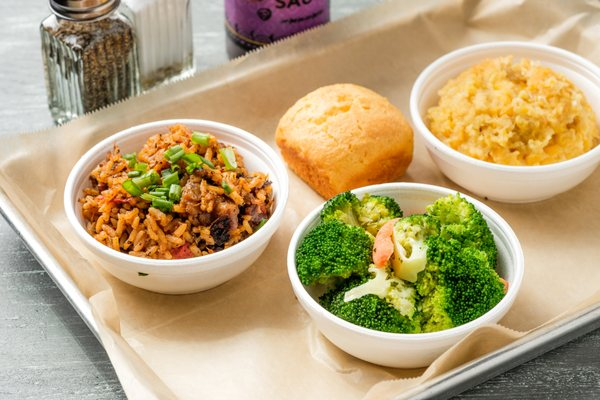curry: (329, 193, 507, 334)
sushi: (287, 179, 526, 368), (63, 118, 290, 295), (409, 41, 600, 202)
